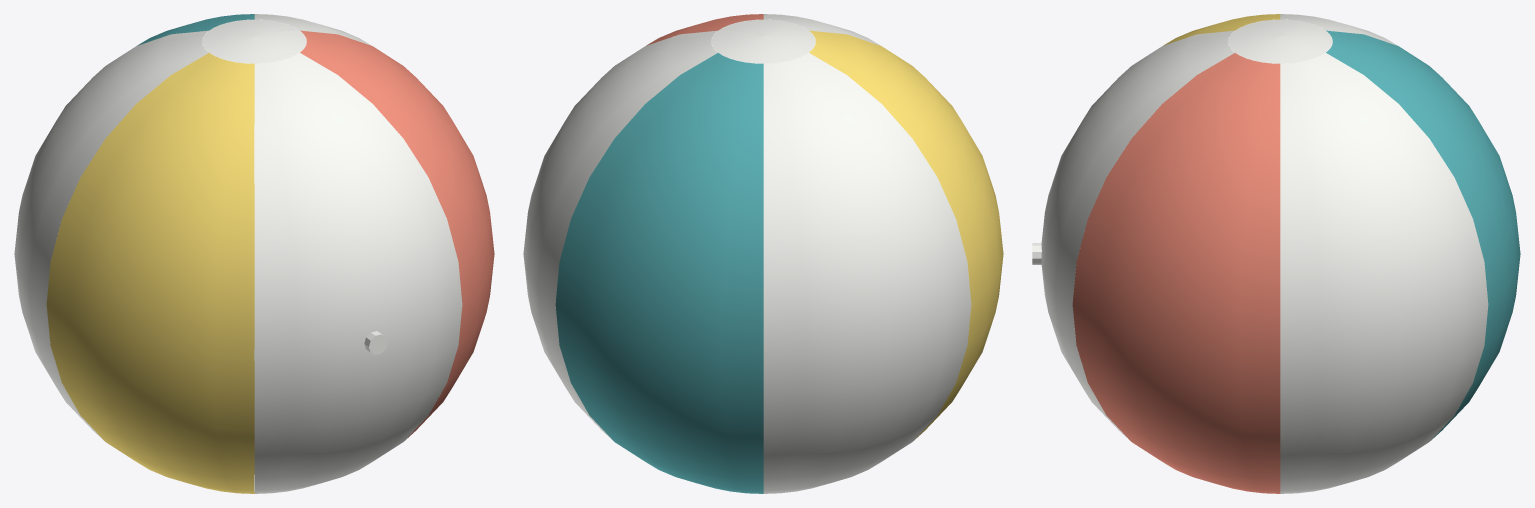
Rendered from beach-surf-and-paddle-kit-beach-ball-81bc6380__39442.glb.
3 renders of one model, left to right at view 1: azimuth 30°, elevation 25°; view 2: azimuth 150°, elevation 25°; view 3: azimuth 270°, elevation 25°, orthographic.
Visible parts, largest first — view 1: beach-ball-foam, beach-ball-sun, beach-ball-coral, beach-ball-teal; view 2: beach-ball-foam, beach-ball-teal, beach-ball-sun, beach-ball-coral; view 3: beach-ball-foam, beach-ball-coral, beach-ball-teal, beach-ball-sun.
Boxes of the visible parts, <box> form: beach-ball-foam: <box>14,14,462,493</box>; beach-ball-sun: <box>46,53,254,493</box>; beach-ball-coral: <box>300,30,494,440</box>; beach-ball-teal: <box>137,14,254,45</box>; beach-ball-foam: <box>523,14,971,493</box>; beach-ball-teal: <box>555,53,763,493</box>; beach-ball-sun: <box>809,30,1003,440</box>; beach-ball-coral: <box>646,14,763,45</box>; beach-ball-foam: <box>1032,14,1488,493</box>; beach-ball-coral: <box>1072,53,1280,493</box>; beach-ball-teal: <box>1326,30,1520,440</box>; beach-ball-sun: <box>1163,14,1280,45</box>.
Bounding box in the file's own units: 0.6 × 0.6 × 0.61.
